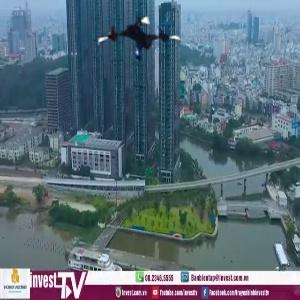drone: (97, 5, 189, 97)
